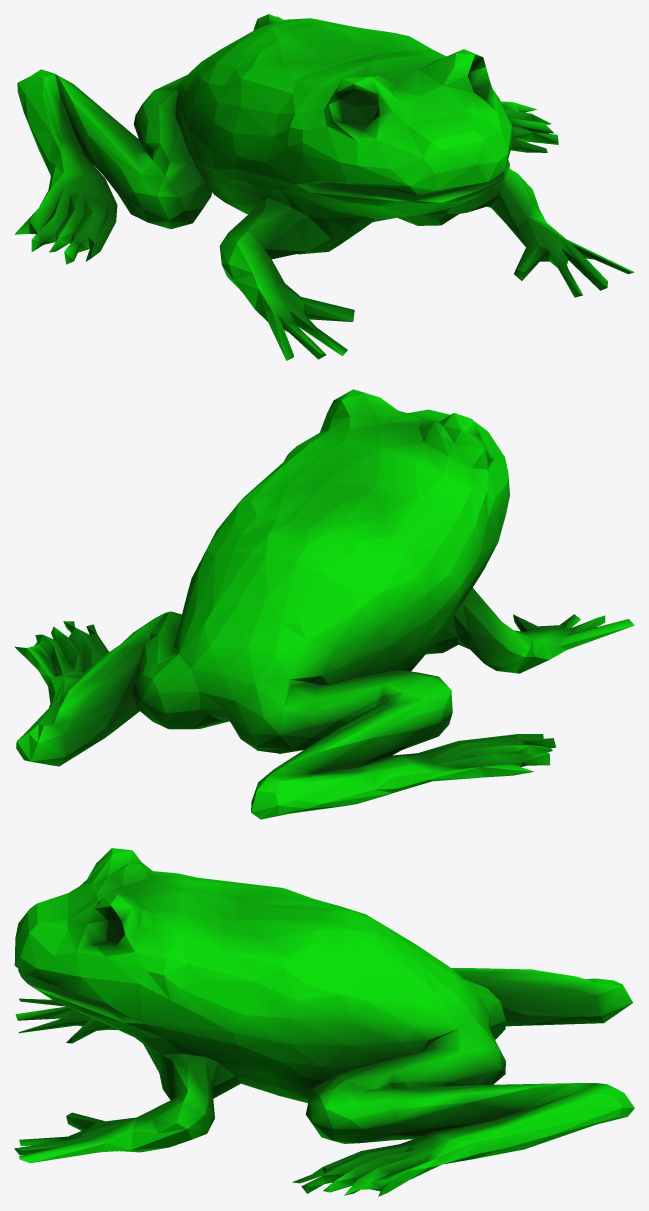
File: frog2KC.obj
The picture shows the model from 3 angles, top to bottom: view 1: azimuth 30°, elevation 25°; view 2: azimuth 150°, elevation 25°; view 3: azimuth 270°, elevation 25°; orthographic projection. The views are drawn at different scales.
Bounding box in the file's own units: 0.9358 × 0.3868 × 1.
